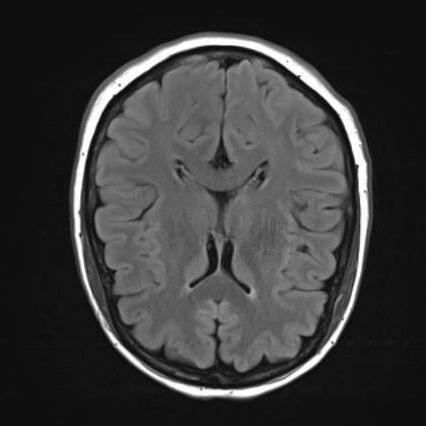Normal_Brain: (1, 1, 426, 426)
